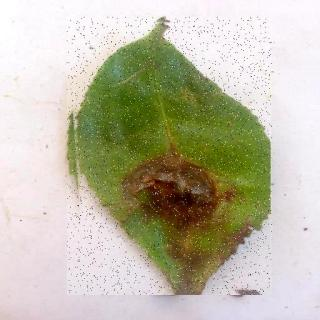Brown Blight: (68, 18, 273, 296)
